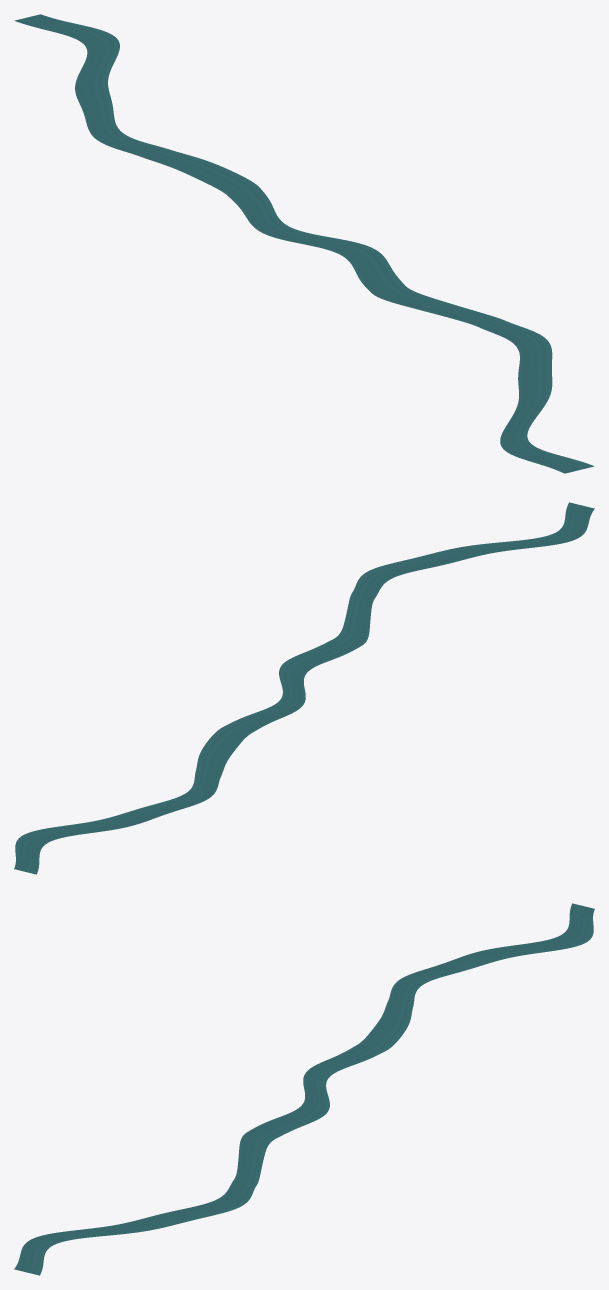
File: catchment-600m-water.glb
The picture shows the model from 3 angles, top to bottom: view 1: azimuth 30°, elevation 25°; view 2: azimuth 150°, elevation 25°; view 3: azimuth 330°, elevation 25°; orthographic projection. The views are drawn at different scales.
Visible parts, largest first — view 1: catchment-600m-water; view 2: catchment-600m-water; view 3: catchment-600m-water.
Boxes of the visible parts, box(x1,y1,x2,y2) form: catchment-600m-water: box(14, 14, 594, 473); catchment-600m-water: box(14, 502, 594, 874); catchment-600m-water: box(14, 903, 594, 1275).
Bounding box in the file's own units: 81 × 0 × 580.
Materials: 1 (1 with a texture image).
